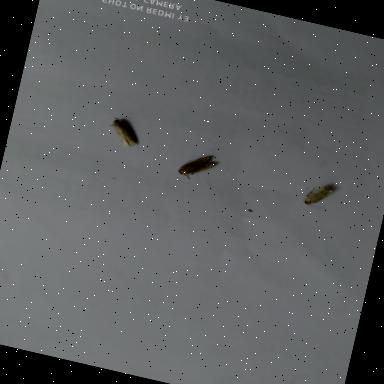pbw: (174, 148, 220, 187), (102, 113, 144, 152), (300, 178, 340, 214)
